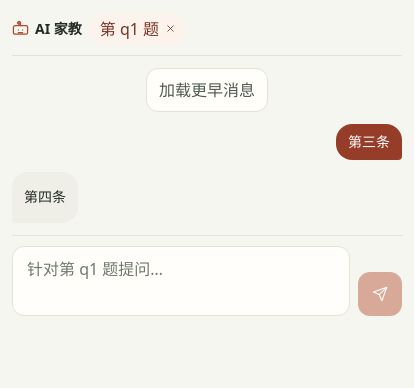
Scenario: loads older messages with before_id and merges them in order without duplicates
Click the button "加载更早消息": (207, 90) [146,68,268,112]
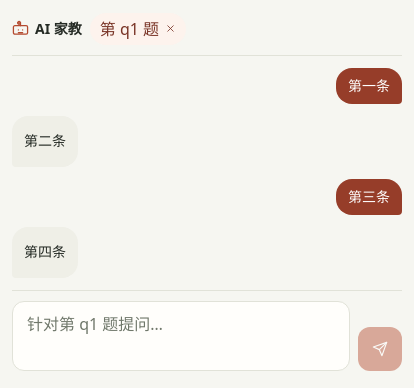
Now the button "加载更早消息" is gone
